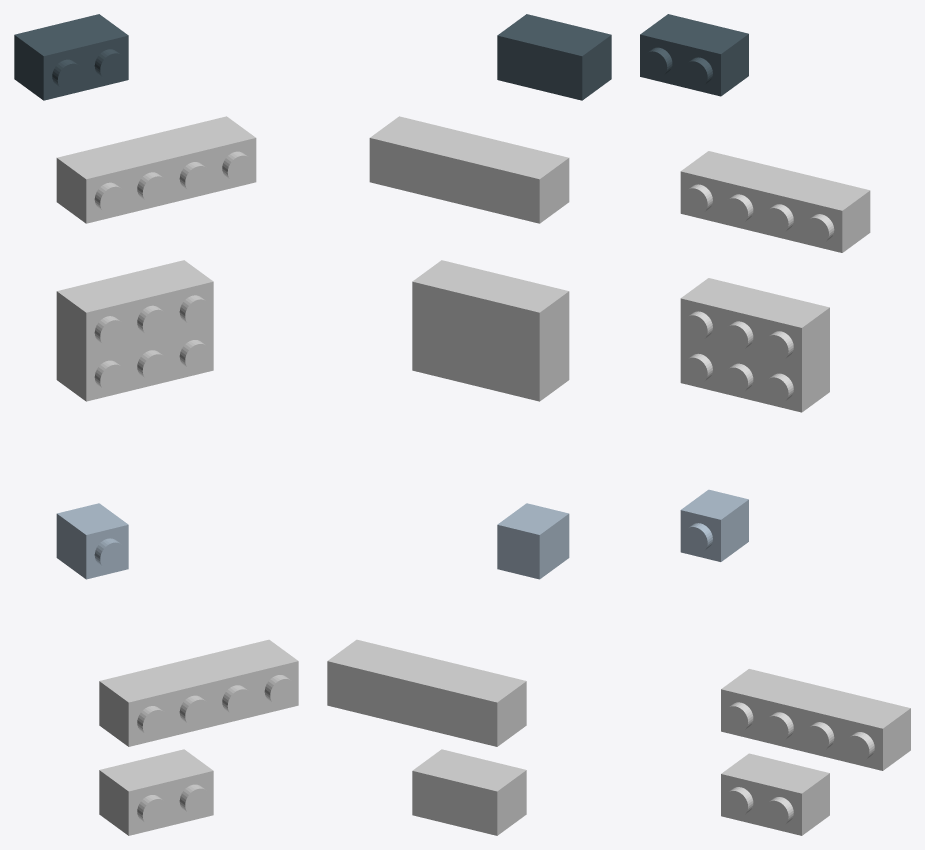
Rendered from current.glb.
3 renders of one model, left to right at view 1: azimuth 30°, elevation 25°; view 2: azimuth 150°, elevation 25°; view 3: azimuth 330°, elevation 25°, orthographic. The views are drawn at different scales.
Parts seen in each view (by area): view 1: world; view 2: world; view 3: world.
Boxes of the visible parts, x1,y1,x2,y2 form: world: (14, 14, 298, 835); world: (327, 14, 611, 835); world: (640, 14, 910, 835).
Size of the model in its own units: 48 by 144 by 11.4.
